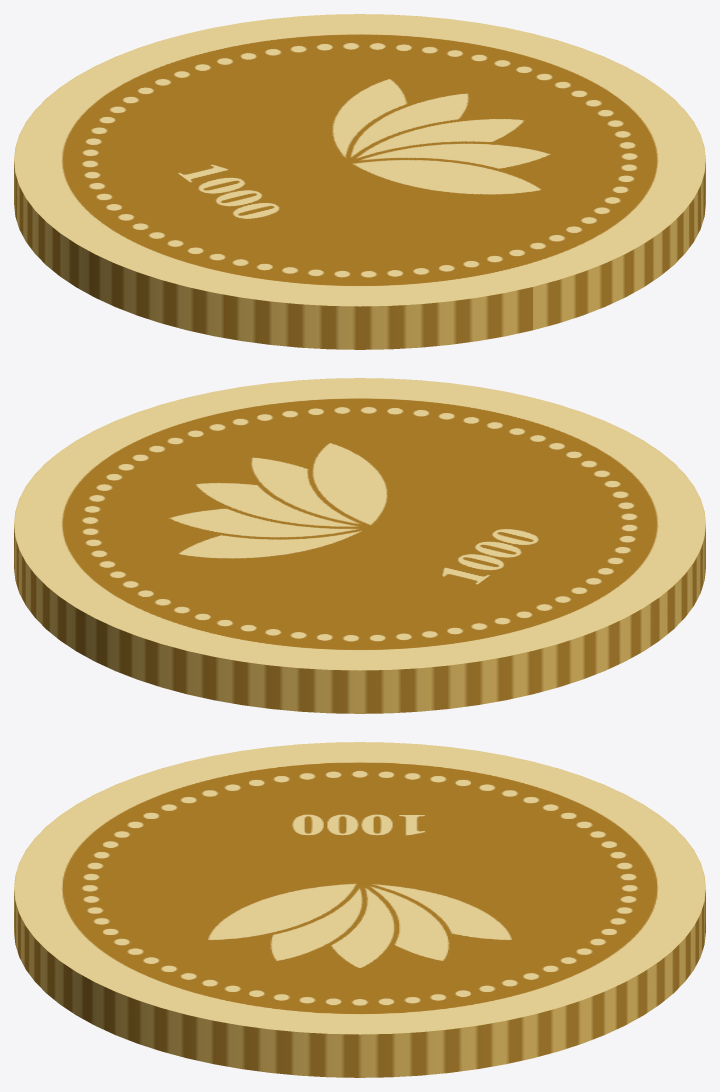
Rendered from gold-coin.glb.
3 renders of one model, top to bottom at view 1: azimuth 30°, elevation 25°; view 2: azimuth 150°, elevation 25°; view 3: azimuth 270°, elevation 25°, orthographic.
Parts seen in each view (by area): view 1: coin_mesh; view 2: coin_mesh; view 3: coin_mesh.
Part boxes in pixels (bbox=[...]): coin_mesh: bbox=[14, 14, 705, 349]; coin_mesh: bbox=[14, 378, 705, 713]; coin_mesh: bbox=[14, 742, 705, 1077].
Size of the model in its own units: 2.6 by 0.18 by 2.6.
Materials: 2 (2 with a texture image).
